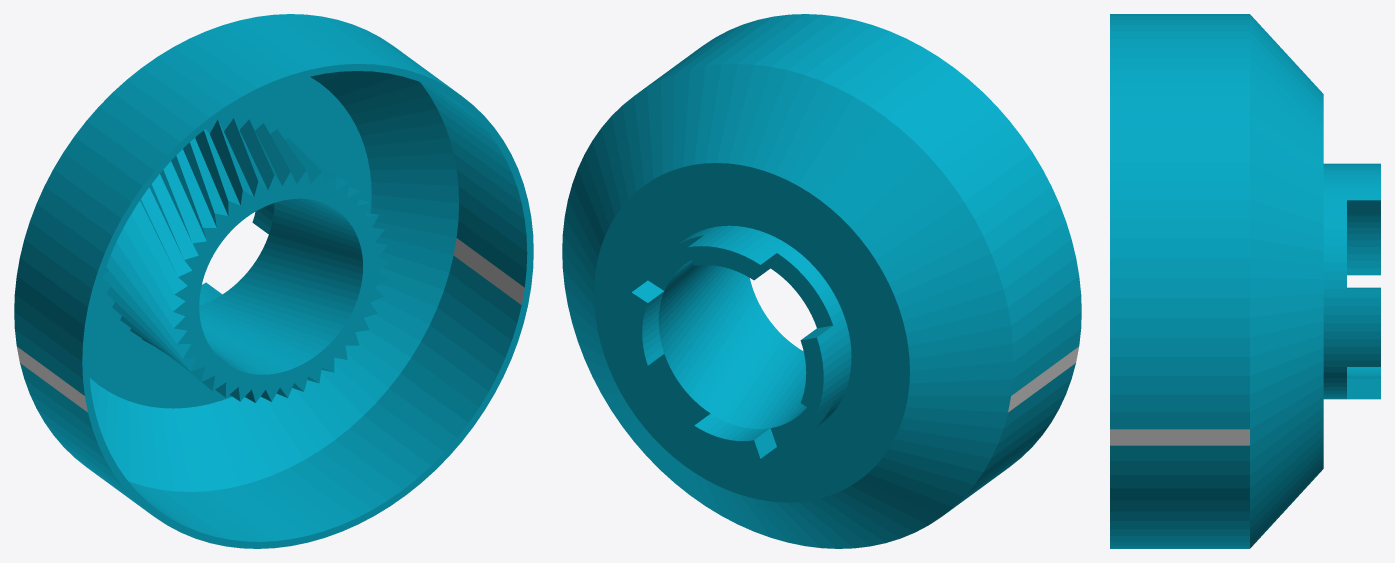
3 renders of one model, left to right at view 1: azimuth 30°, elevation 25°; view 2: azimuth 150°, elevation 25°; view 3: azimuth 270°, elevation 25°, orthographic. The views are drawn at different scales.
Visible parts, largest first — view 1: 680; view 2: 680; view 3: 680.
Part boxes in pixels (left/top/right/bottom): 680: left=14, top=14, right=533, bottom=548; 680: left=562, top=14, right=1081, bottom=548; 680: left=1110, top=14, right=1380, bottom=548.
Bounding box in the file's own units: 1378 × 1378 × 697.
